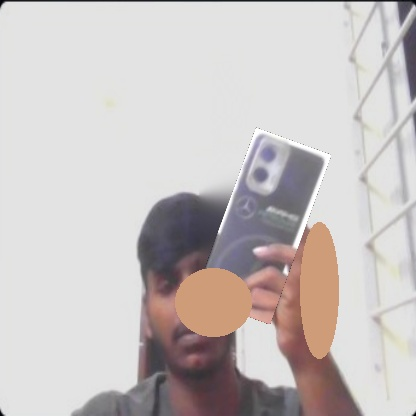cell_phone: (194, 127, 331, 324)
